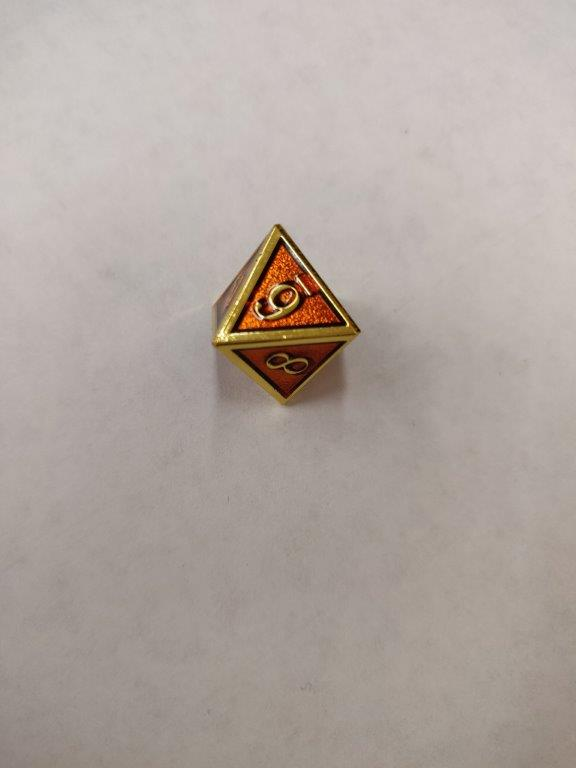d8-6: (211, 222, 362, 403)
